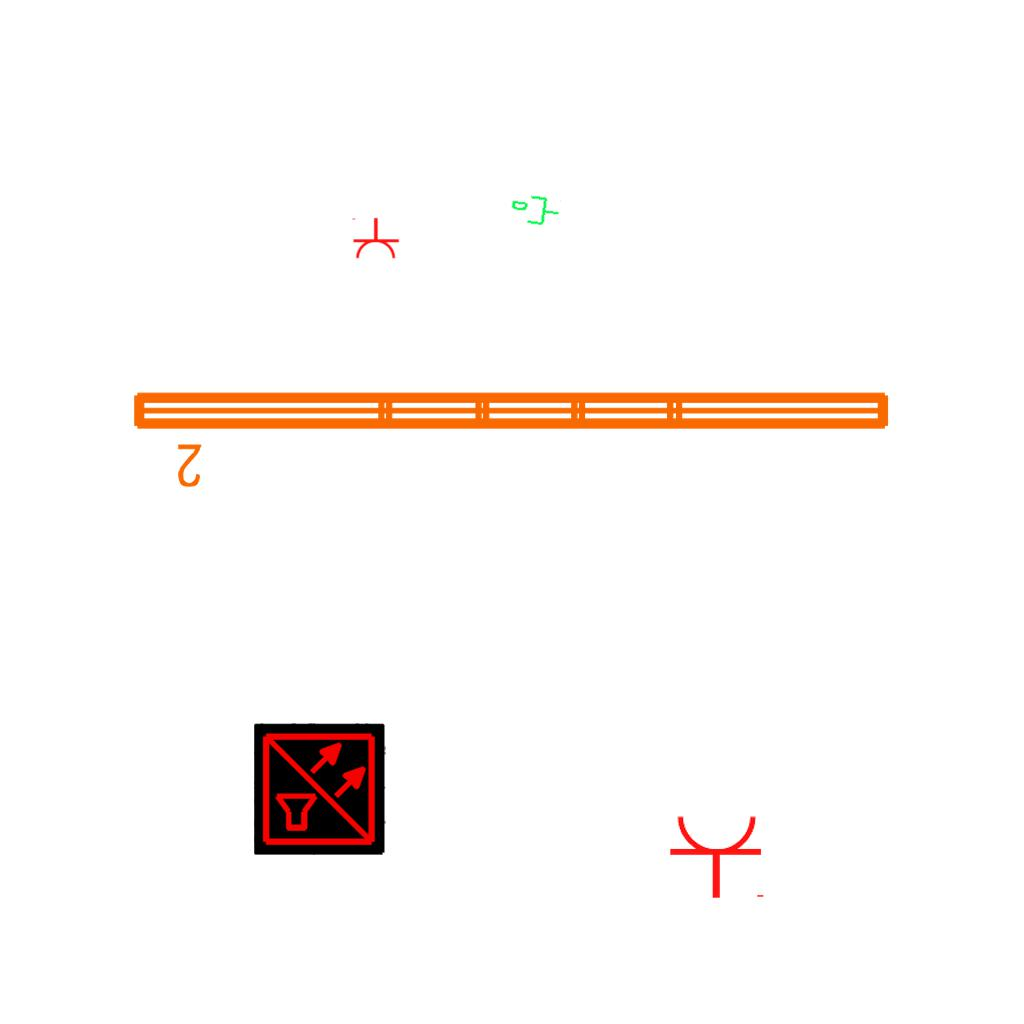Ambulanz_Pendelleuchte_LED: (125, 380, 899, 492)
Datenanschluss_einfach: (507, 190, 563, 232)
OKW_Multisensormelder_(Kombination_optischer_Rauch-Kahlenmonoxid_Waerme-Melder): (254, 723, 386, 855)
Schukosteckdose_einfach: (668, 813, 768, 900), (350, 217, 400, 260)
